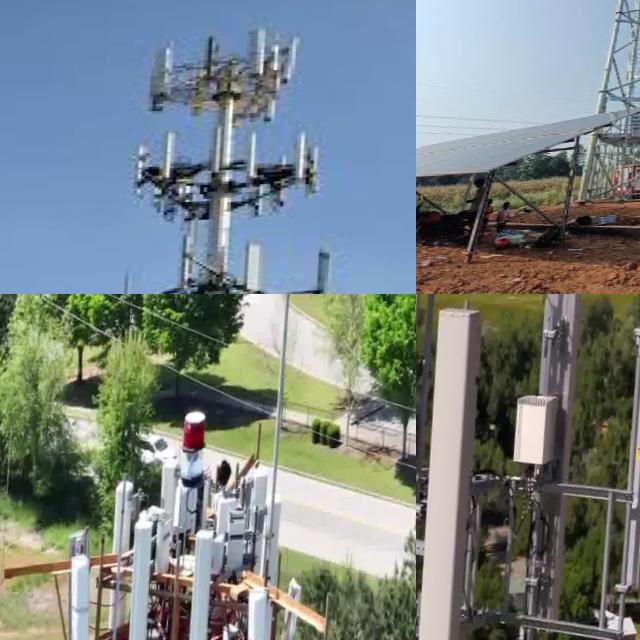GSM Antenna: (416, 295, 514, 640), (515, 294, 607, 637), (612, 319, 640, 596), (107, 476, 153, 630), (117, 518, 175, 640), (182, 524, 235, 640), (416, 294, 436, 552), (61, 551, 112, 640), (232, 26, 275, 94), (242, 578, 289, 640), (279, 577, 320, 640), (149, 45, 181, 105), (208, 125, 240, 184), (311, 248, 349, 294), (249, 238, 274, 292), (246, 128, 267, 190), (158, 132, 184, 178), (293, 132, 314, 182)
